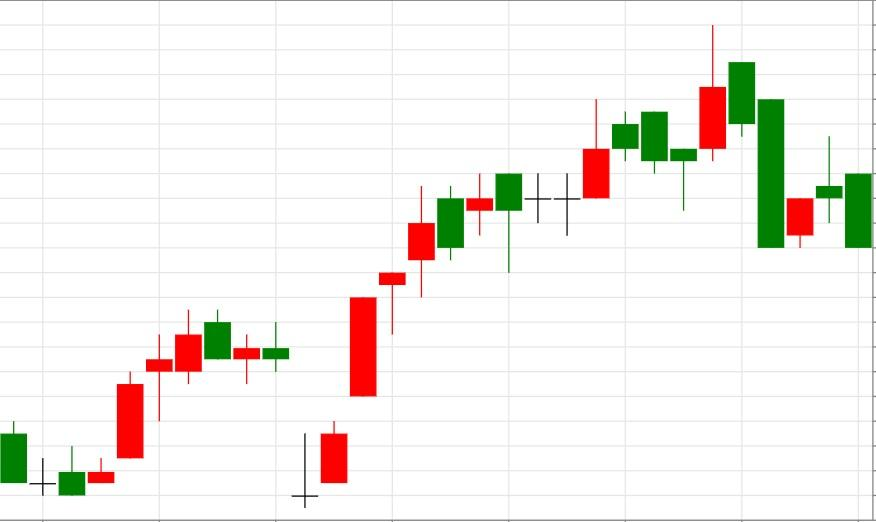three_white_soldiers_rise: (203, 272, 407, 508)
